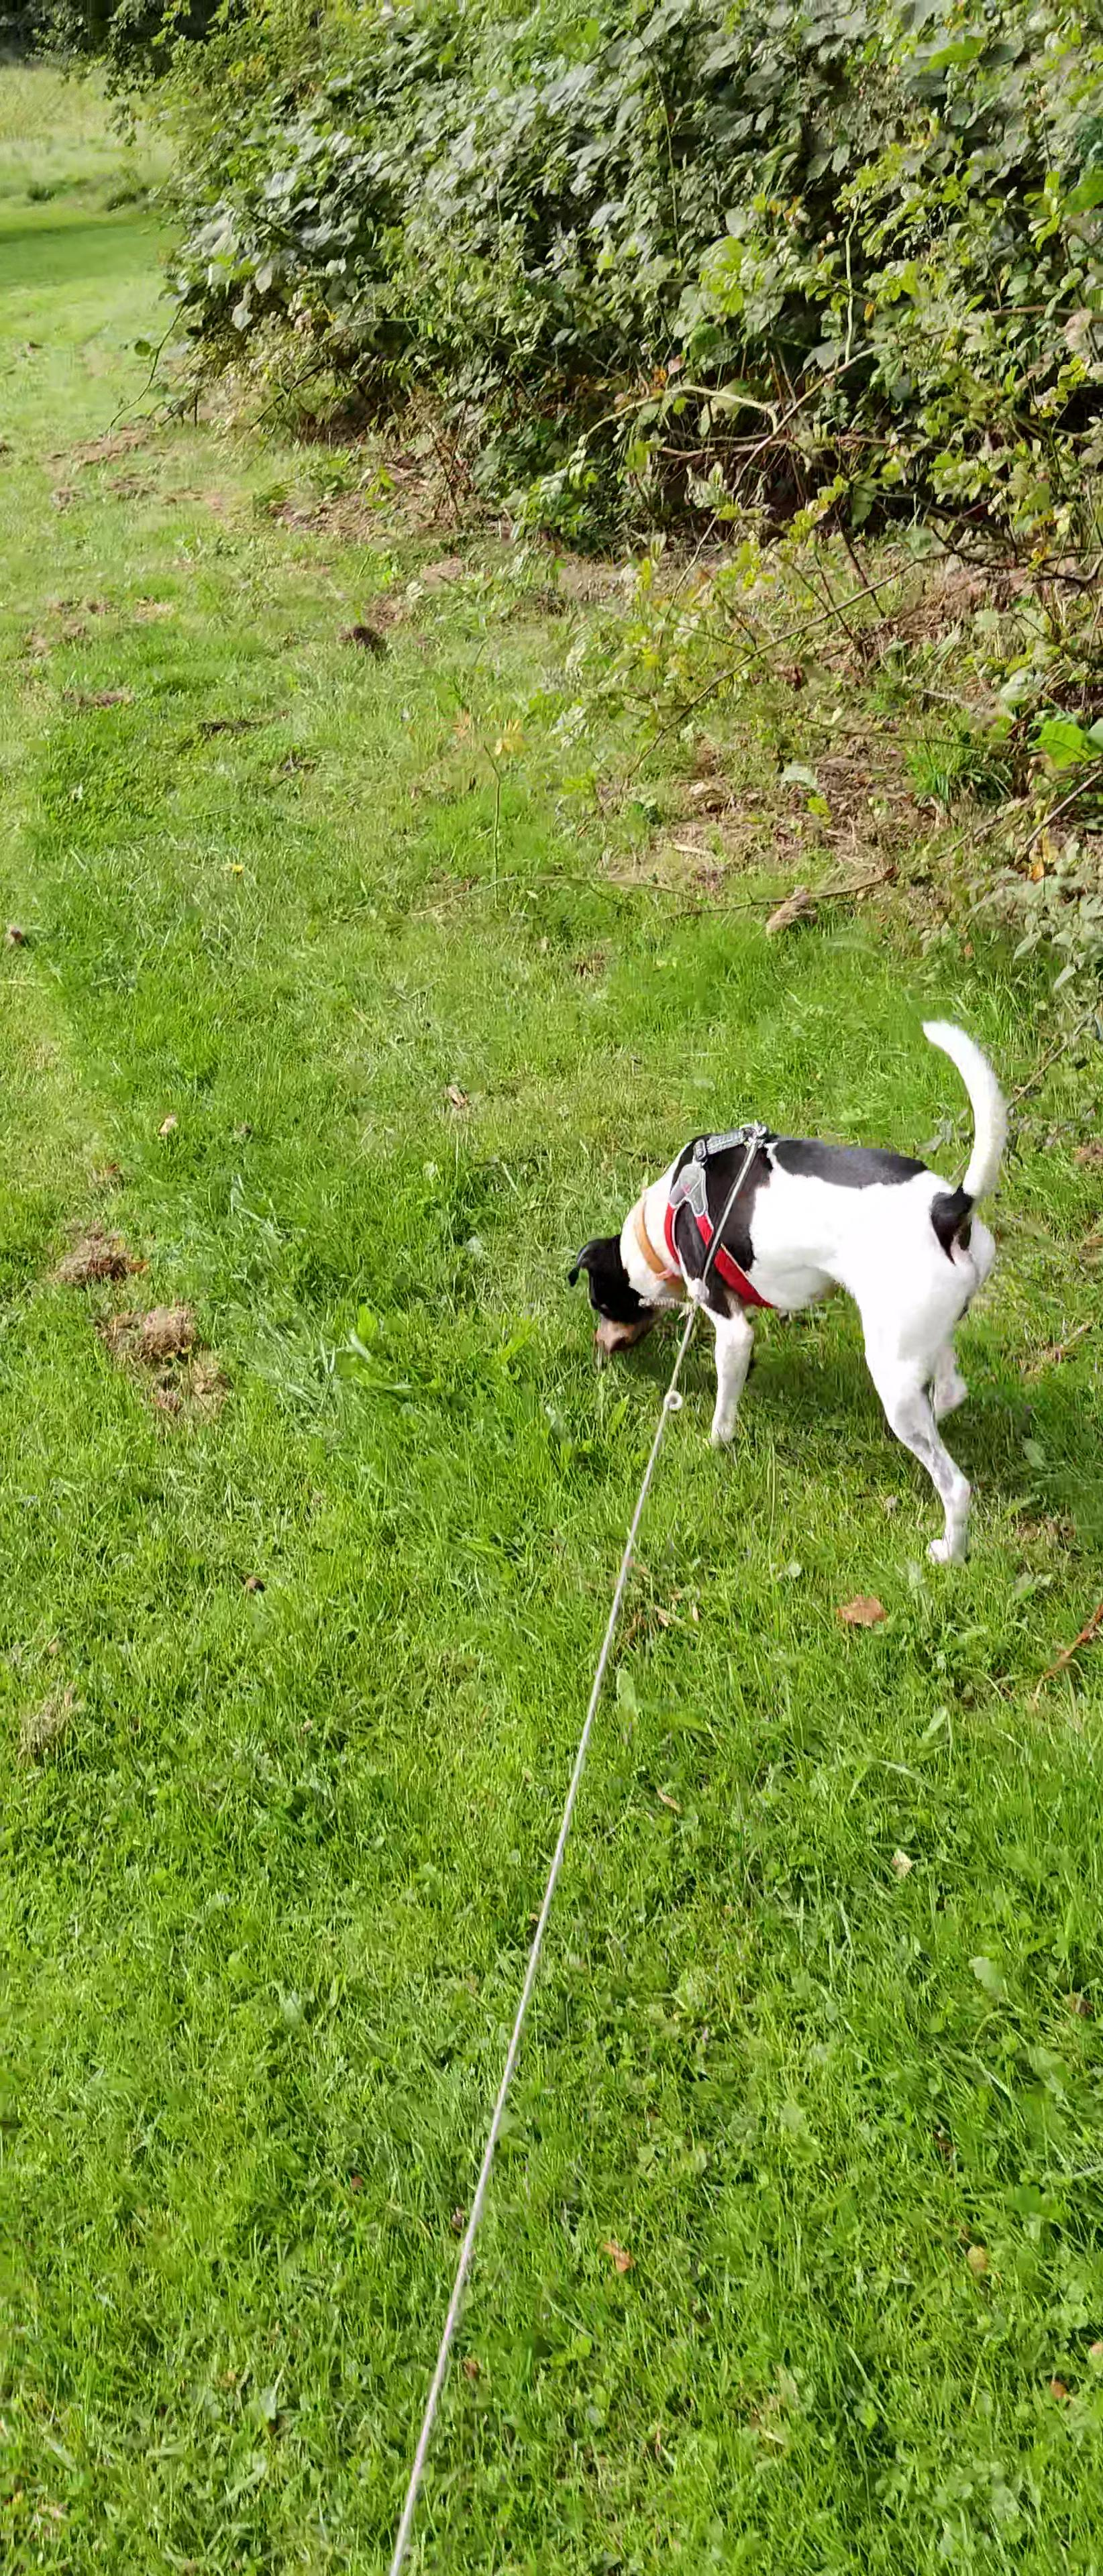Dog: (547, 1009, 1037, 1579)
